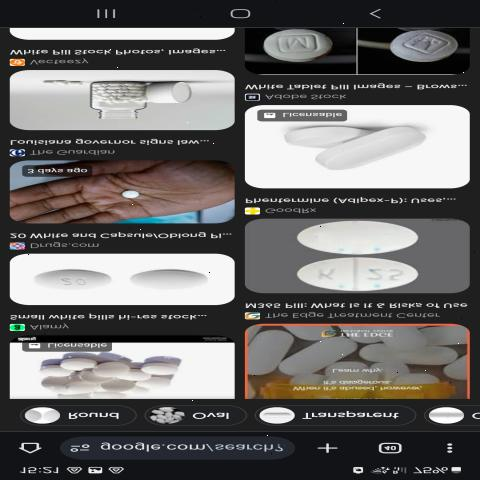Pill: (322, 124, 443, 174), (278, 262, 446, 295), (282, 228, 430, 257), (271, 335, 370, 374), (373, 31, 475, 66), (253, 28, 354, 62), (120, 265, 228, 296), (24, 268, 114, 298), (136, 356, 196, 377), (118, 184, 169, 204)
